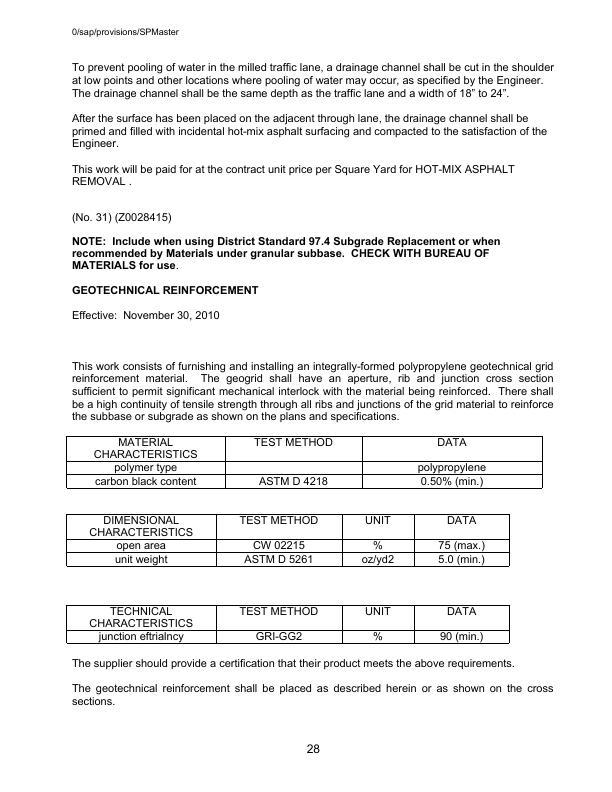table: (63, 433, 554, 496), (62, 511, 517, 571), (63, 602, 515, 647)
text: (67, 208, 501, 321), (68, 357, 559, 423), (68, 655, 559, 709), (68, 58, 559, 100), (71, 110, 549, 152), (66, 161, 522, 193)
